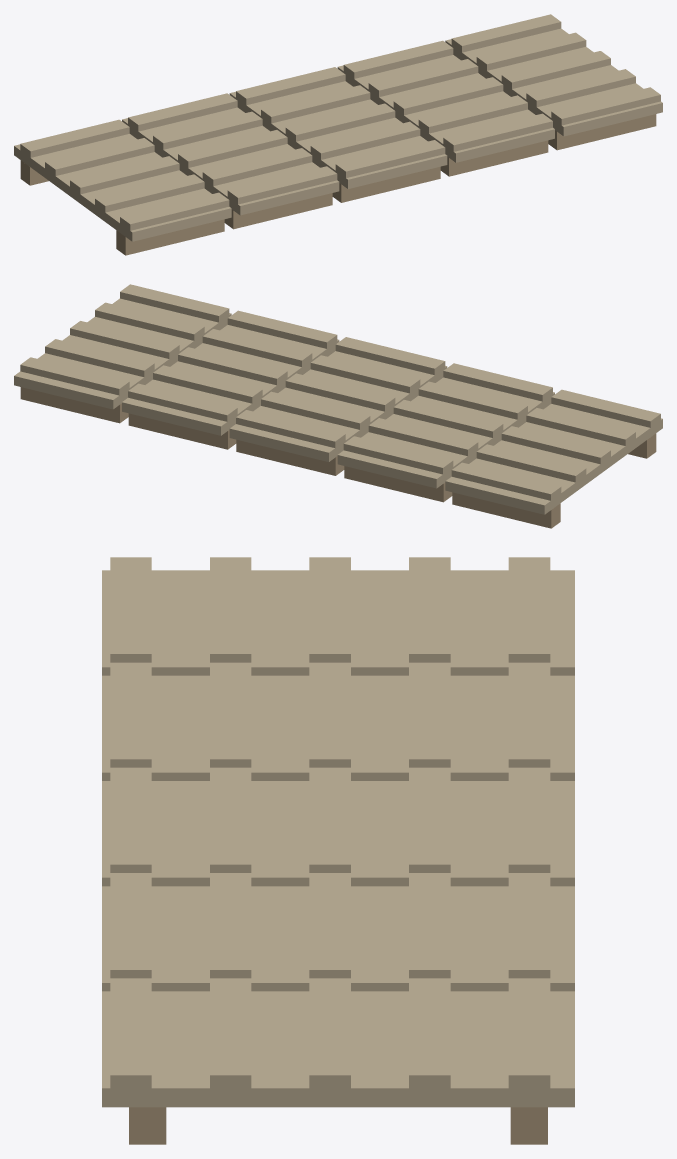
Rendered from trench-line-1917-duckboard-floor-d7429842__24044.glb.
3 renders of one model, top to bottom at view 1: azimuth 30°, elevation 25°; view 2: azimuth 150°, elevation 25°; view 3: azimuth 270°, elevation 25°, orthographic. The views are drawn at different scales.
Parts seen in each view (by area): view 1: duckboard-floor; view 2: duckboard-floor; view 3: duckboard-floor.
Boxes of the visible parts, bbox=[...] form: duckboard-floor: bbox=[14, 14, 662, 255]; duckboard-floor: bbox=[14, 284, 662, 528]; duckboard-floor: bbox=[102, 557, 574, 1144].
Bounding box in the file's own units: 2.95 × 0.1849 × 1.14.
